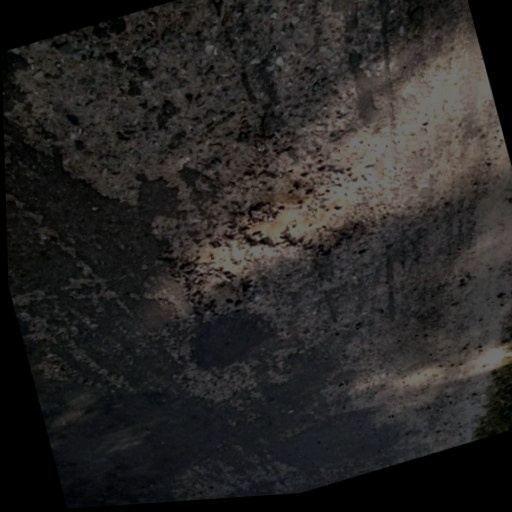pothole: (229, 143, 387, 280), (163, 221, 265, 329)
